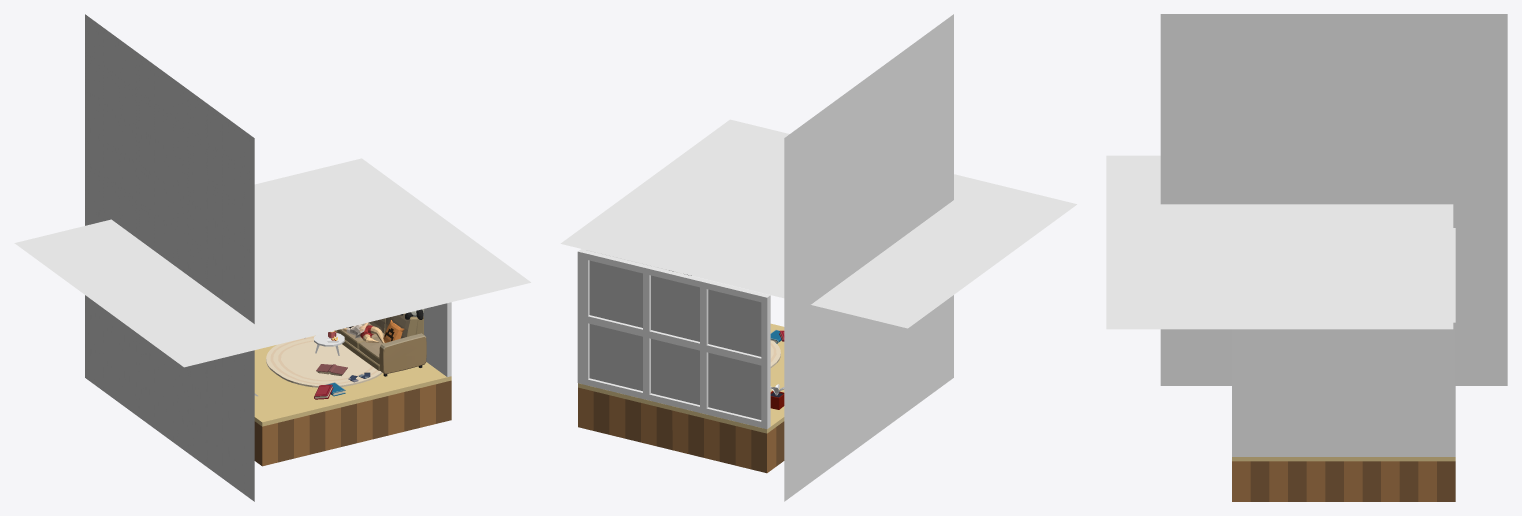
3 renders of one model, left to right at view 1: azimuth 30°, elevation 25°; view 2: azimuth 150°, elevation 25°; view 3: azimuth 270°, elevation 25°, orthographic. The views are drawn at different scales.
Parts seen in each view (by area): view 1: shadowPlan_front, shadowPlan_Top, Room, Carpet, Wall, Sofa_Side; view 2: shadowPlan_front, shadowPlan_Top, Window_Glass, Room, Window_Frame, Wall; view 3: shadowPlan_front, shadowPlan_Top, Wall, Room.
Part boxes in pixels (x1,y1,x2,y2): shadowPlan_front: [85, 14, 254, 501]; shadowPlan_Top: [14, 158, 530, 367]; Room: [254, 345, 451, 466]; Carpet: [266, 335, 382, 387]; Wall: [423, 302, 451, 376]; Sofa_Side: [379, 333, 426, 376]; shadowPlan_front: [784, 14, 953, 501]; shadowPlan_Top: [560, 119, 1076, 328]; Window_Glass: [589, 260, 761, 419]; Room: [578, 323, 784, 473]; Window_Frame: [582, 250, 770, 429]; Wall: [577, 249, 665, 383]; shadowPlan_front: [1160, 14, 1507, 385]; shadowPlan_Top: [1106, 155, 1453, 329]; Wall: [1232, 320, 1455, 456]; Room: [1232, 457, 1455, 501].
Size of the model in its own units: 14.81 by 14.83 by 14.49.
